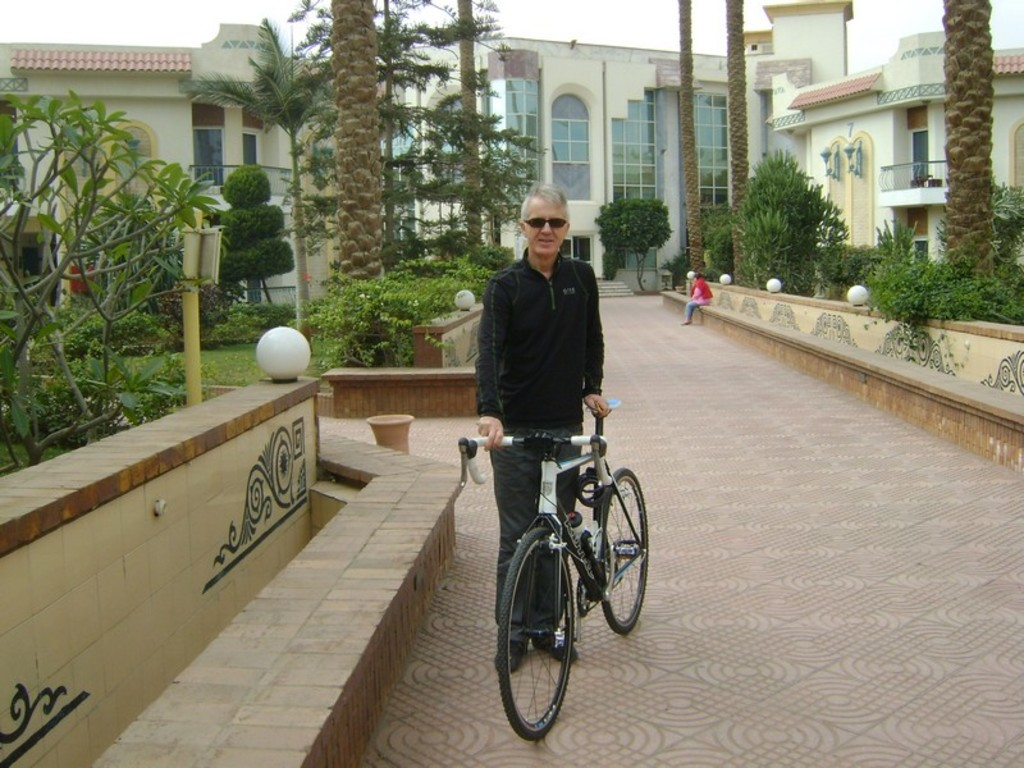Bike: (450, 397, 652, 740)
